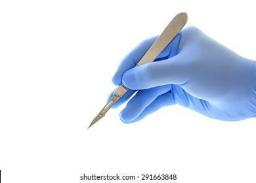scalpel: (88, 12, 188, 130)
